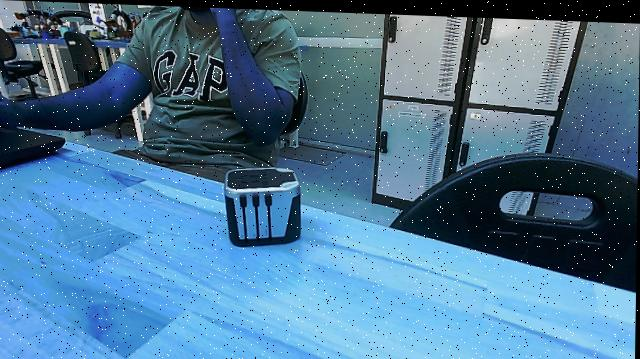adapter: (219, 158, 307, 249)
